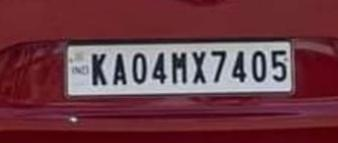0: (130, 51, 149, 86), (250, 49, 269, 83)
4: (230, 47, 249, 87), (150, 51, 169, 86)
5: (269, 47, 288, 83)
7: (209, 48, 230, 86)
A: (109, 48, 129, 88)
K: (89, 49, 108, 88)
X: (189, 49, 209, 87)
m: (170, 50, 188, 85)
